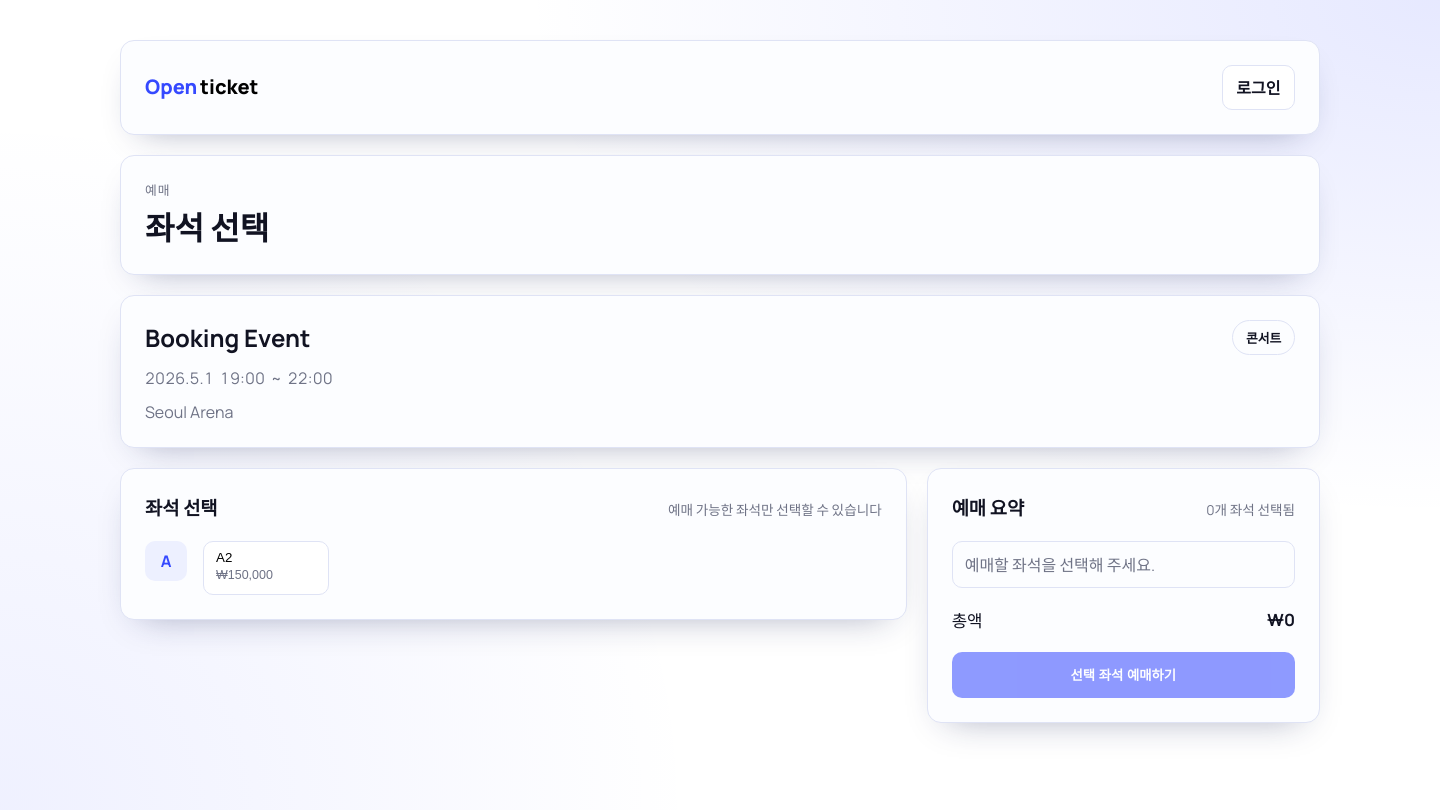
Test: SeatSelectionPage › 예매 요청에 queue token과 event id 헤더를 함께 전송
This screenshot has width=1440, height=810.
Click the button named "A2 예약 가능" at (266, 568), box [203,541,329,595]
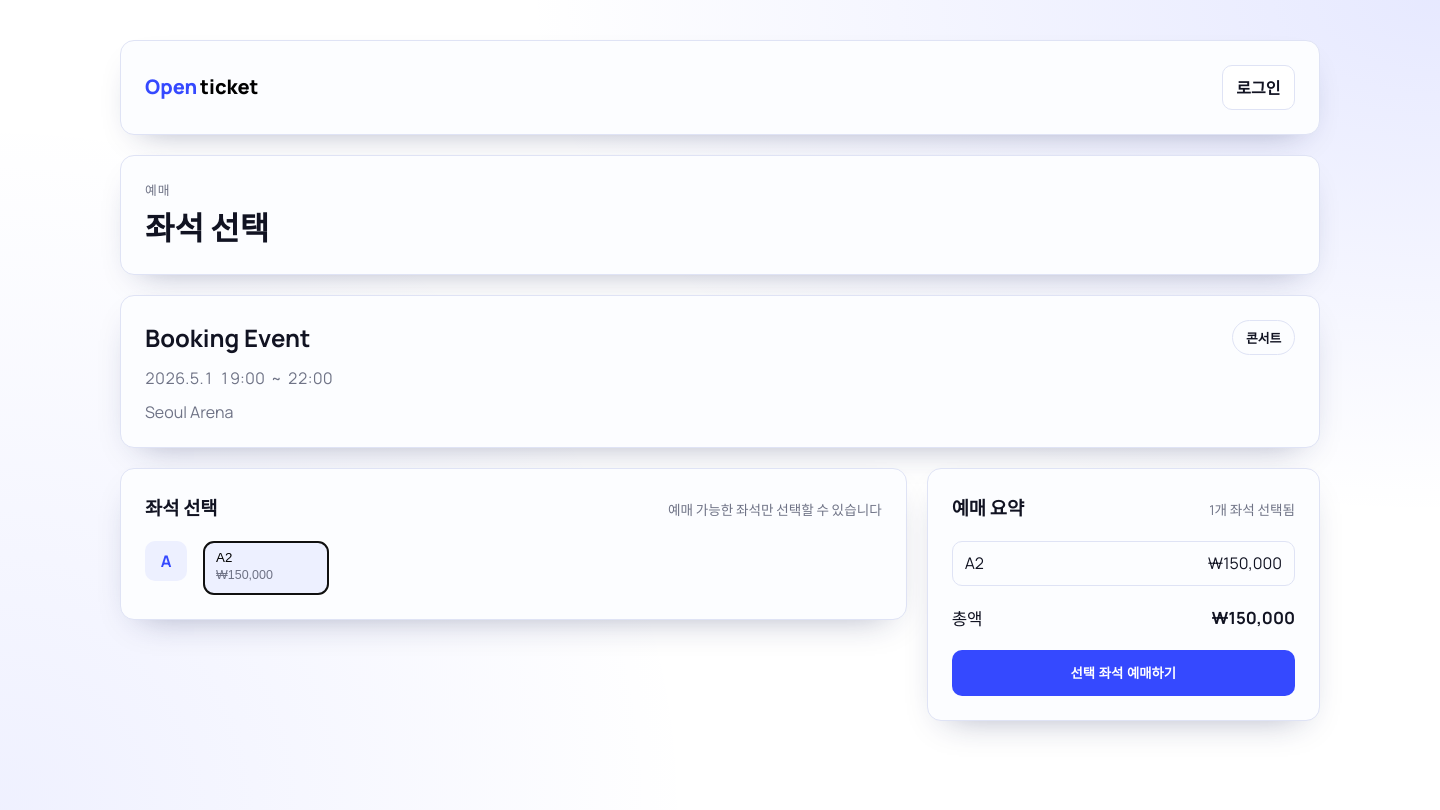
Click the button "선택 좌석 예매하기" at (1123, 673), box [952,650,1295,696]
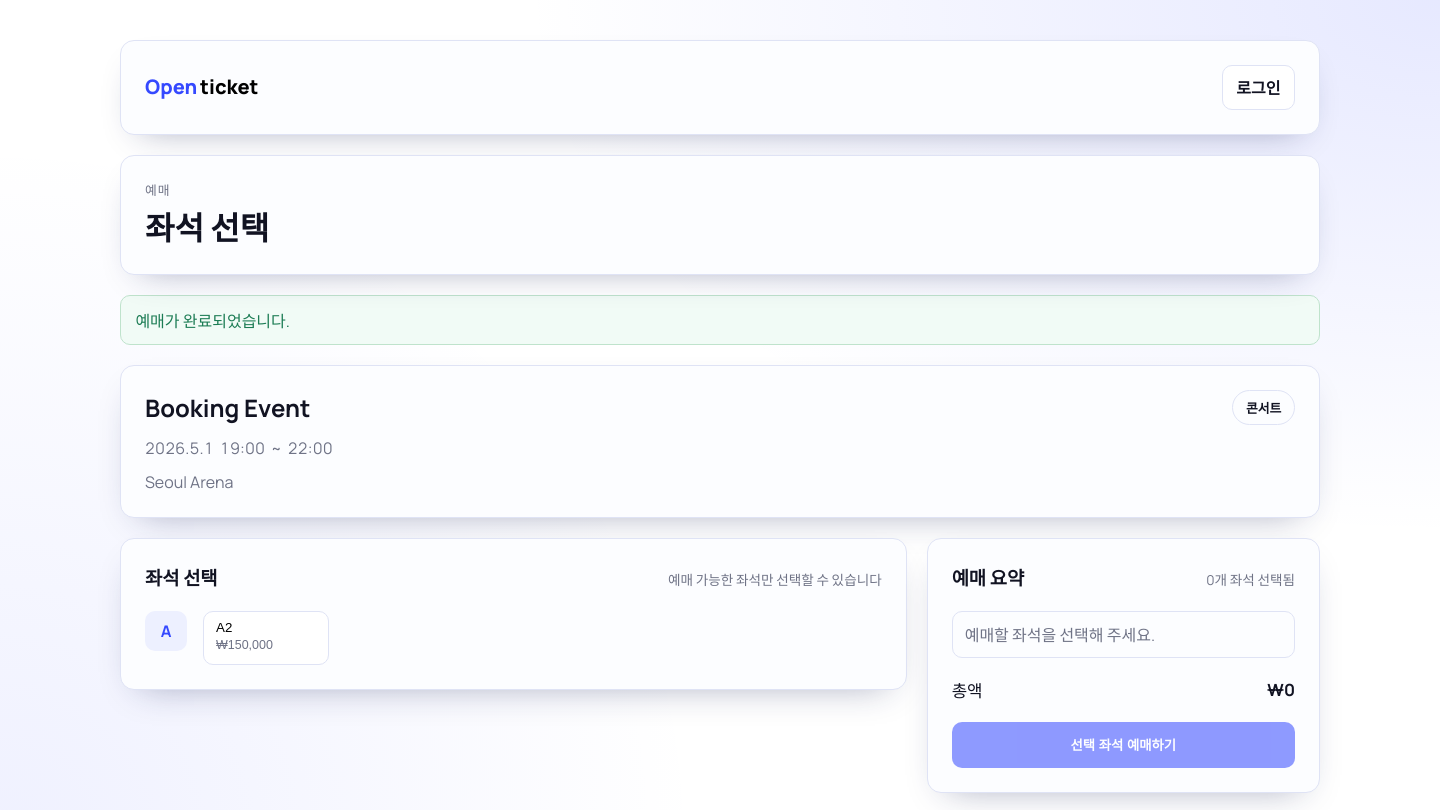
Now the text "예매가 완료되었습니다." is shown, box [120,295,1320,345]
